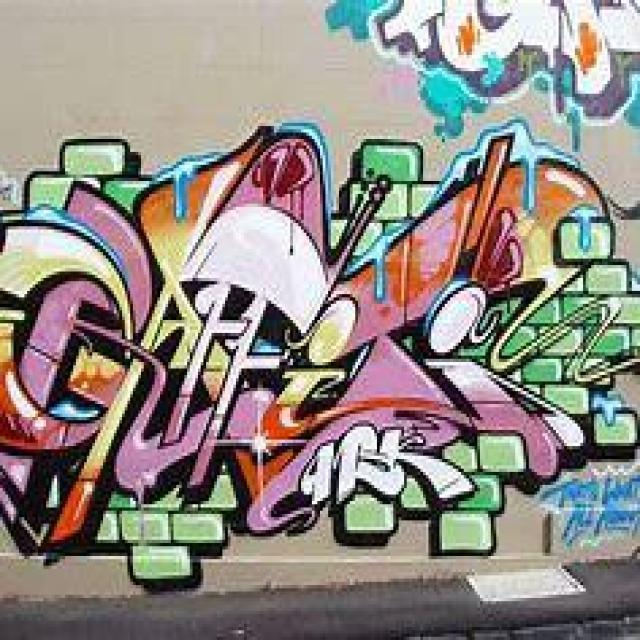nonspitting: (0, 120, 640, 586), (322, 0, 640, 152), (540, 472, 640, 548)
